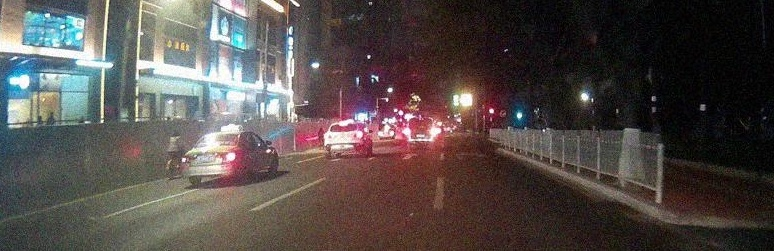L_light: (182, 155, 196, 163)
R_light: (218, 152, 237, 161)
T_light: (216, 134, 229, 136)
night-right: (181, 132, 240, 184)
